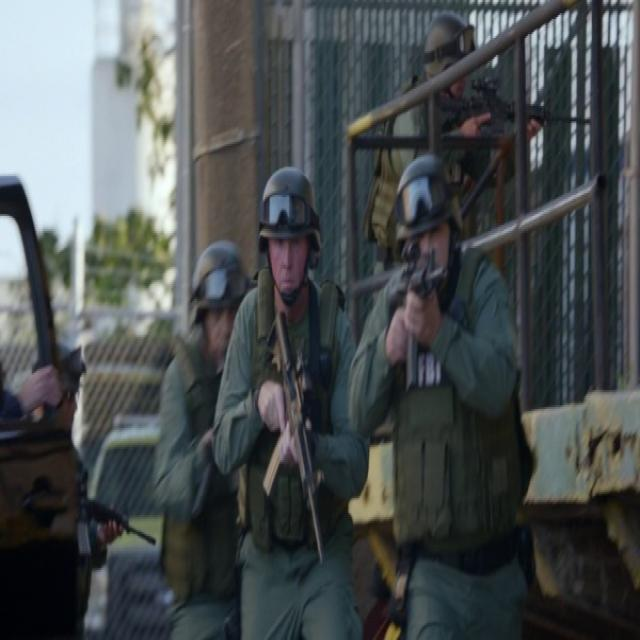rifle: (260, 305, 332, 570)
